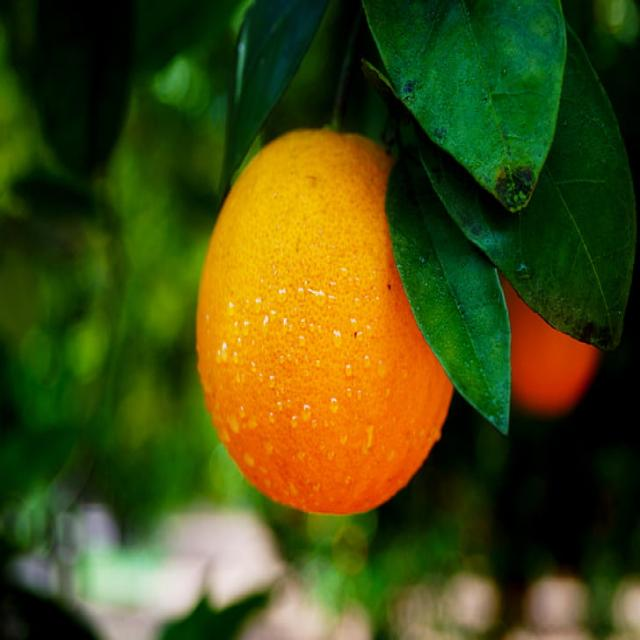orange: (194, 124, 452, 494)
